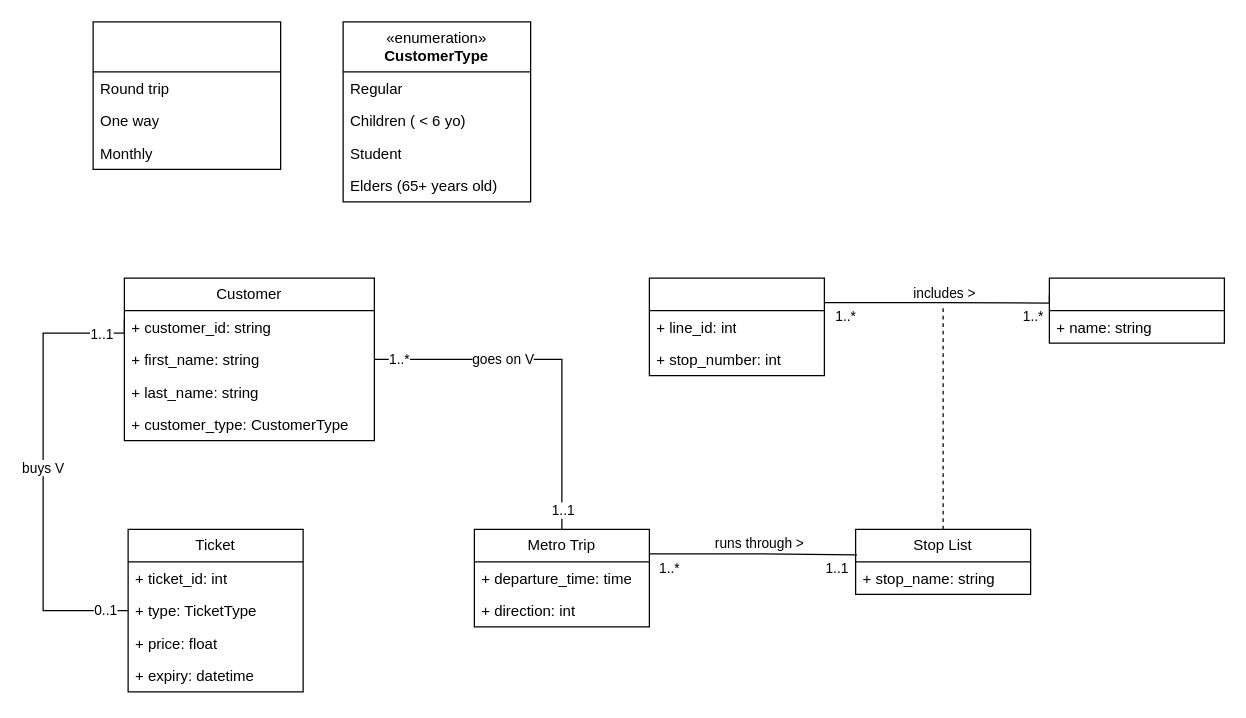
The diagram is 1246 pixels wide and 718 high, and some of its shapes have lost their labels. Here are the shapes that lost their labels. From the top down, the box of each, then its label:
(92, 21, 281, 169): «enumeration» TicketType
(648, 277, 824, 376): Metro Line
(1048, 277, 1224, 343): Metro Stop
